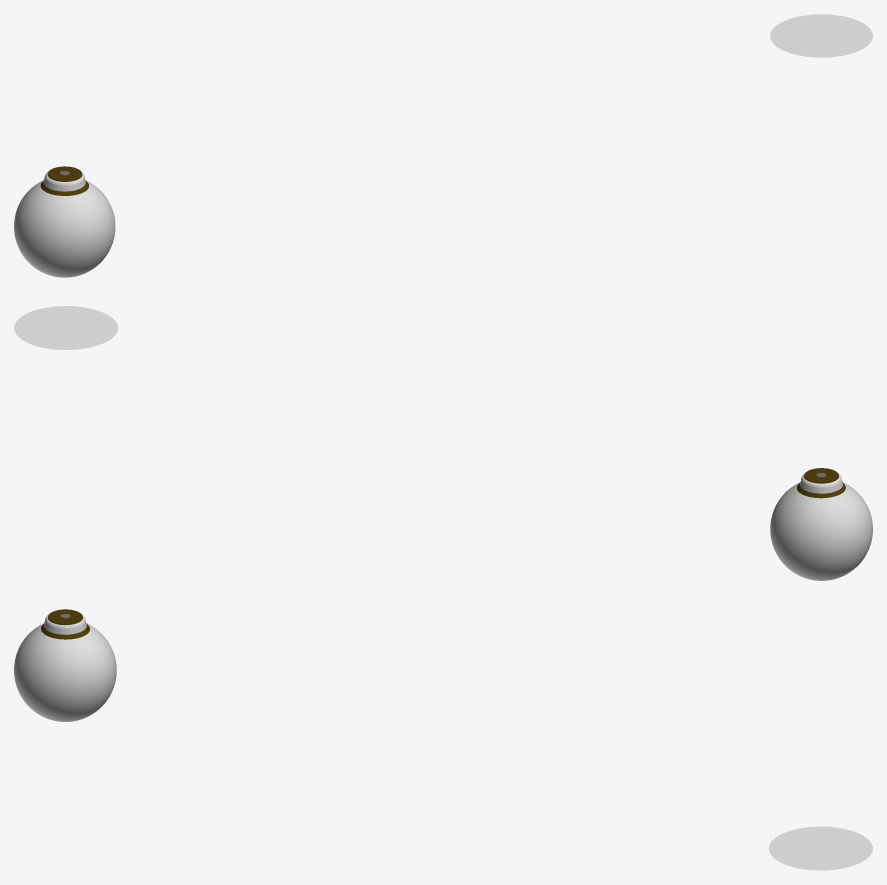
Rendered from ToxicCircle.fbx.
3 views of the same model, one above another, from view 1: azimuth 30°, elevation 25°; view 2: azimuth 150°, elevation 25°; view 3: azimuth 330°, elevation 25° (orthographic).
Parts seen in each view (by area): view 1: Sphere, Circle; view 2: Sphere, Circle; view 3: Sphere, Circle.
Boxes of the visible parts, box(x1,y1,x2,y2) form: Sphere: box(14, 171, 115, 277); Circle: box(770, 14, 872, 57); Sphere: box(770, 473, 872, 580); Circle: box(14, 306, 118, 349); Sphere: box(14, 614, 116, 721); Circle: box(768, 826, 872, 870).
Bounding box in the file's own units: 1881 × 214 × 219.
